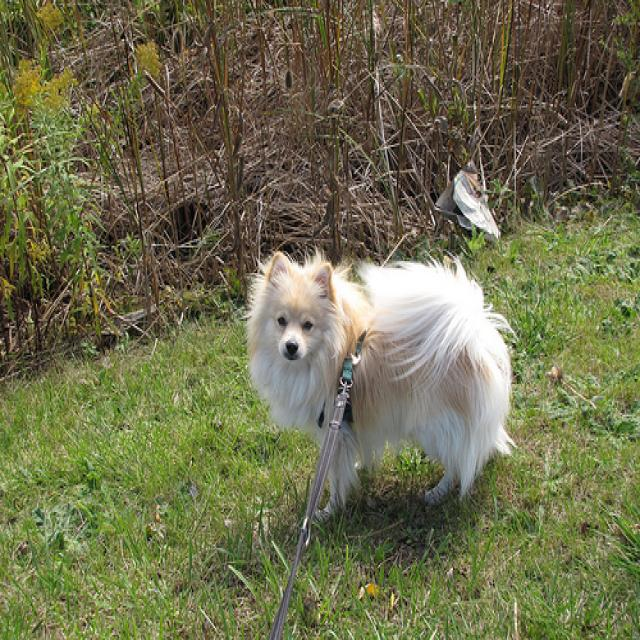dog-pomeranian: (238, 244, 525, 538)
